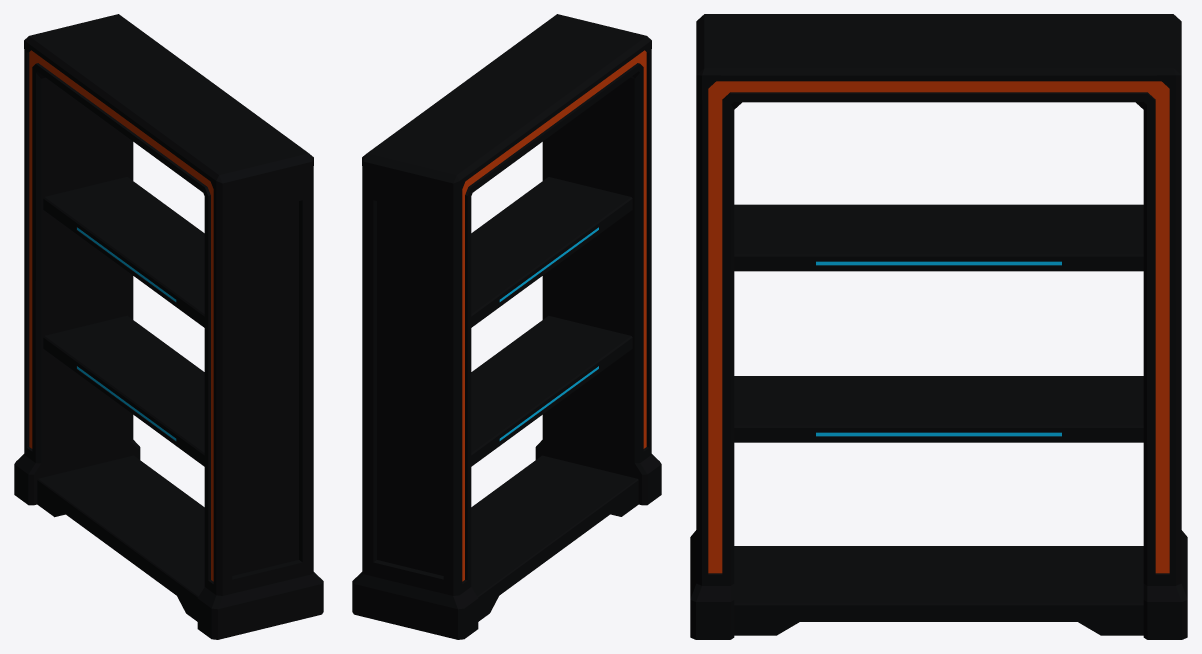
Rendered from SM_Tech Storage_Rack.obj.
3 views of the same model, side by side, from view 1: azimuth 30°, elevation 25°; view 2: azimuth 150°, elevation 25°; view 3: azimuth 270°, elevation 25° (orthographic). The views are drawn at different scales.
Parts seen in each view (by area): view 1: SM_Tech_Storage_Rack; view 2: SM_Tech_Storage_Rack; view 3: SM_Tech_Storage_Rack.
Boxes of the visible parts, <box> form: SM_Tech_Storage_Rack: <box>14,14,323,639</box>; SM_Tech_Storage_Rack: <box>352,14,661,639</box>; SM_Tech_Storage_Rack: <box>690,14,1187,639</box>.
Size of the model in its own units: 0.46 by 1.8 by 1.44.
